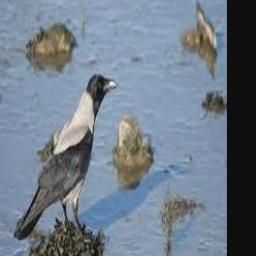Crow: (14, 73, 119, 242)
